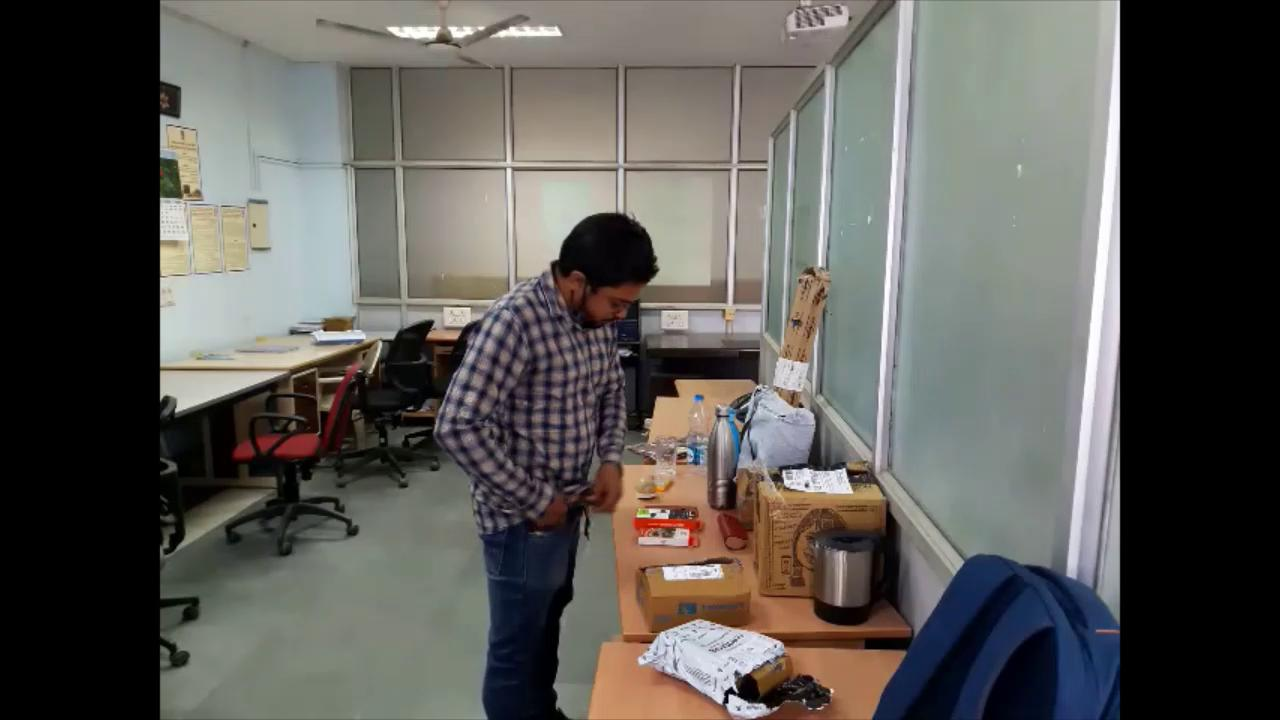shoplifting: (432, 195, 661, 720)
